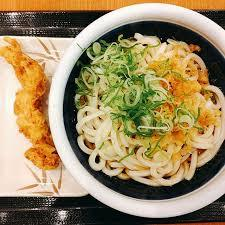bukkake: (54, 6, 225, 214)
